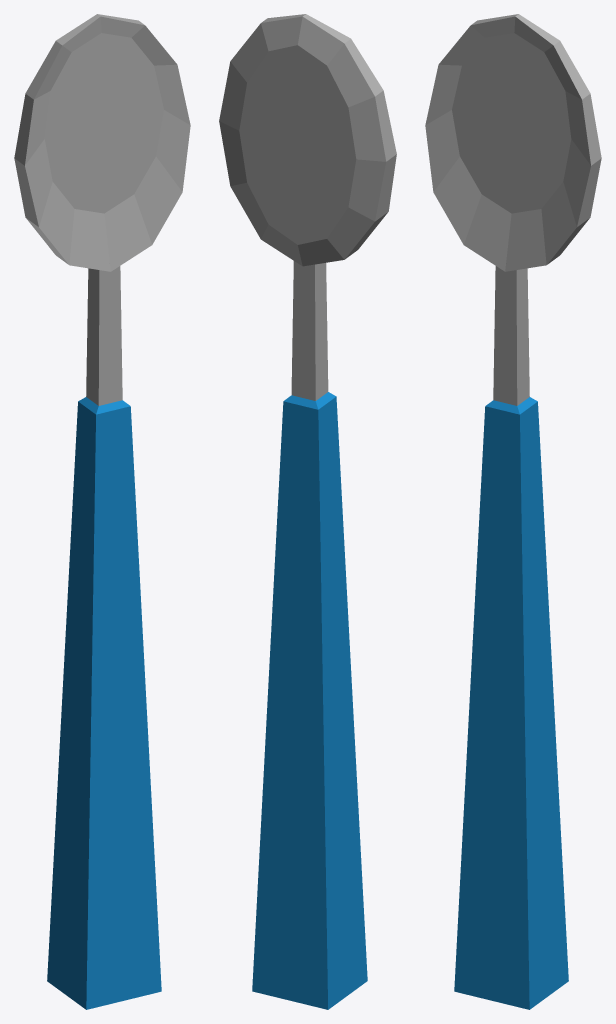
Rendered from Spoon.fbx.
3 views of the same model, side by side, from view 1: azimuth 30°, elevation 25°; view 2: azimuth 150°, elevation 25°; view 3: azimuth 330°, elevation 25° (orthographic).
Parts seen in each view (by area): view 1: Spoon; view 2: Spoon; view 3: Spoon.
Part boxes in pixels (left/top/right/bottom): Spoon: left=14, top=14, right=190, bottom=1009; Spoon: left=219, top=14, right=396, bottom=1009; Spoon: left=425, top=14, right=601, bottom=1009.
Bounding box in the file's own units: 70 × 392 × 28.69.
